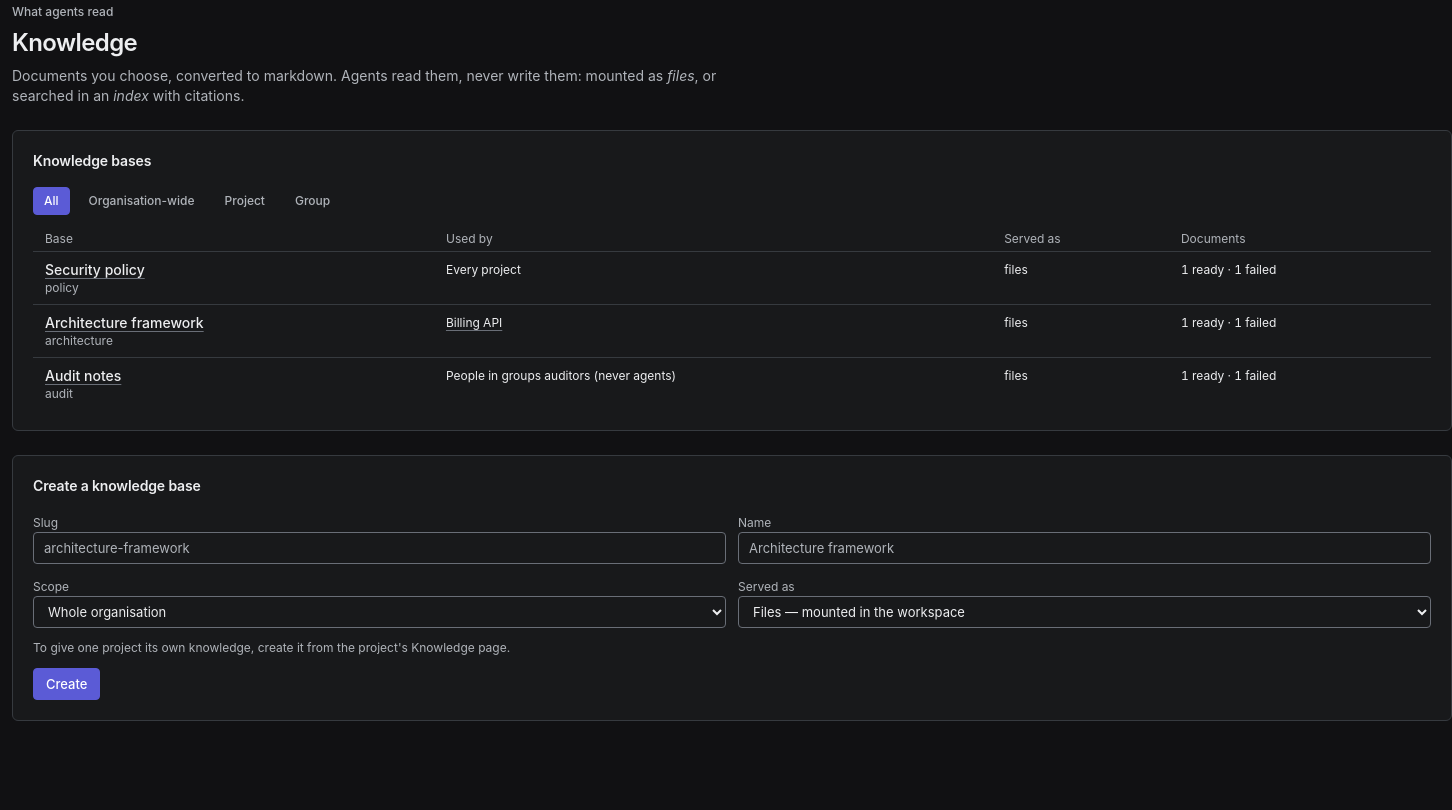
the registry's scope (S39-14) › filters by scope and says who uses each base
Expected: the table with test id "knowledge-bases" shows "Every project", 446,262 -> 521,277
Expected: the table with test id "knowledge-bases" shows "People in groups auditors (never agents)", 446,368 -> 676,383
Click the button "Group": (313, 201) 284,187 -> 341,215
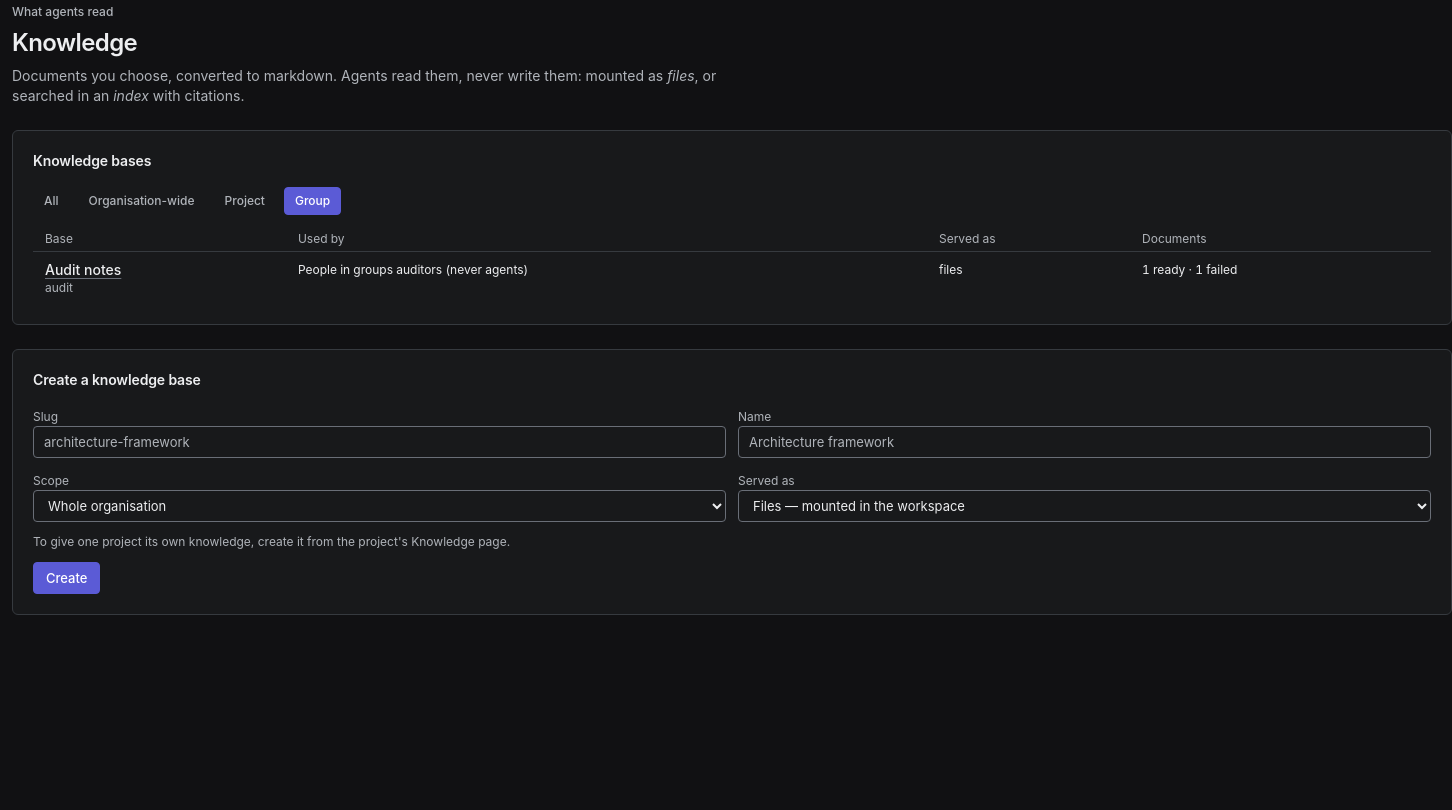
Expected: the table with test id "knowledge-bases" shows "Audit notes", 45,261 -> 121,278
Expected: the table with test id "knowledge-bases" no longer shows "Security policy", 33,227 -> 1431,304
Click the button "All": (51, 201) 33,187 -> 70,215
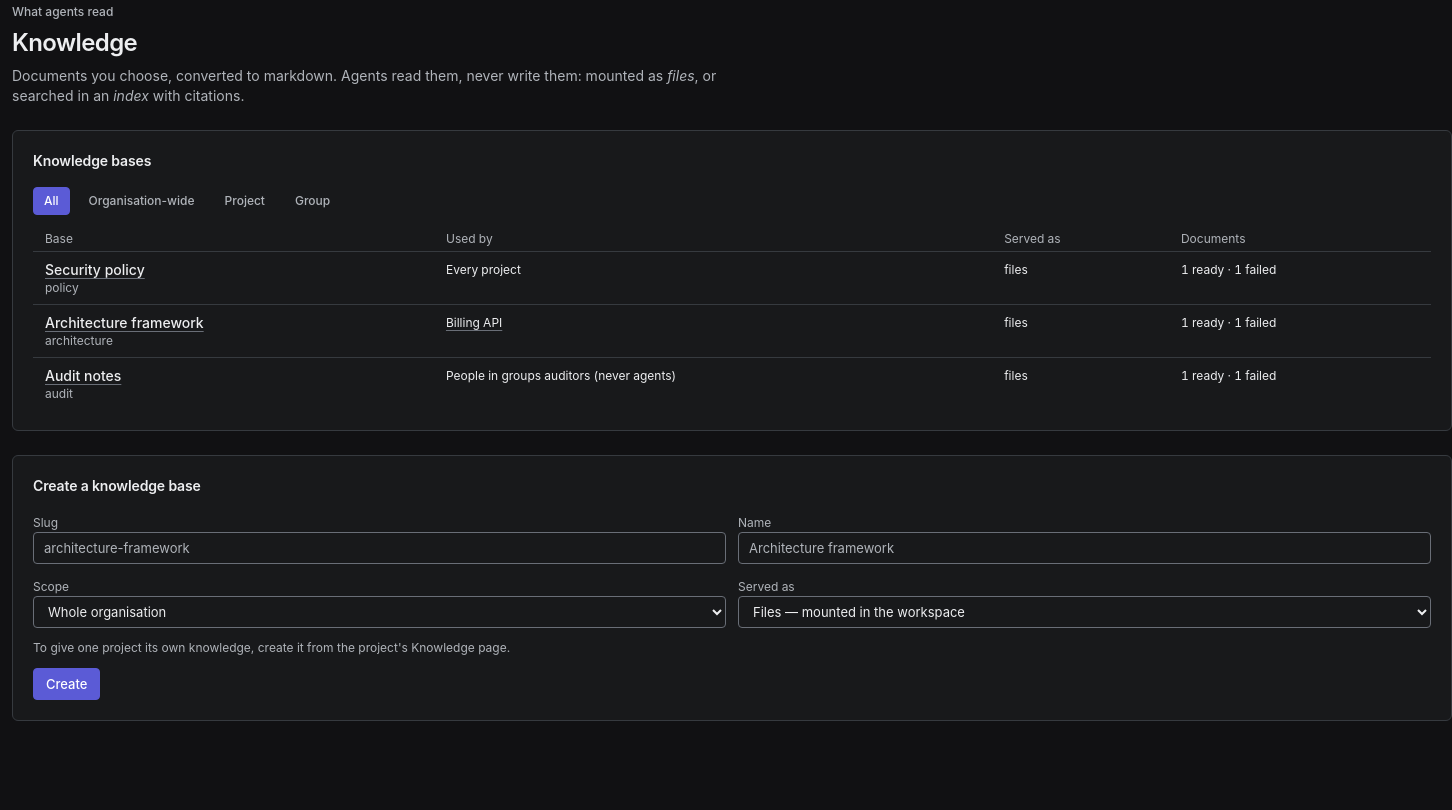
Expected: the table with test id "knowledge-bases" shows "Security policy", 45,261 -> 145,278
